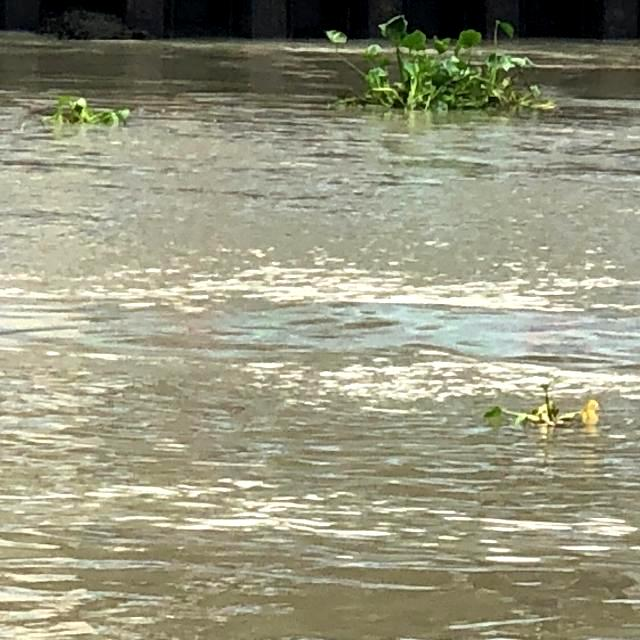water-hyacinth: (319, 1, 559, 131), (485, 379, 622, 433), (20, 99, 132, 133)
